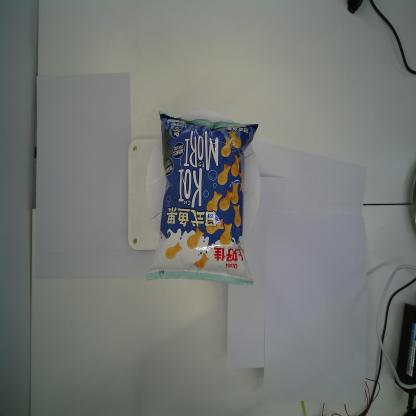Puffed Food: (145, 109, 259, 287)
